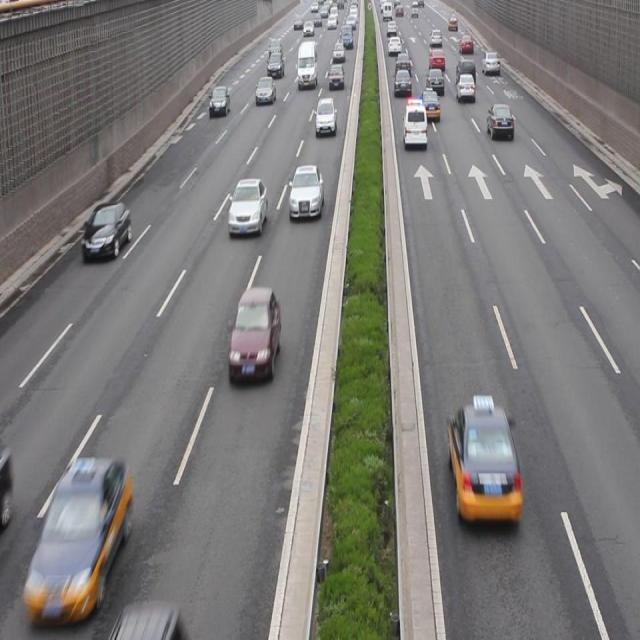car: (25, 462, 131, 602), (446, 391, 520, 526), (228, 284, 281, 382), (82, 203, 132, 260), (227, 177, 267, 237), (290, 164, 324, 220), (484, 103, 512, 138), (315, 96, 336, 137)
truck: (402, 99, 427, 150)
